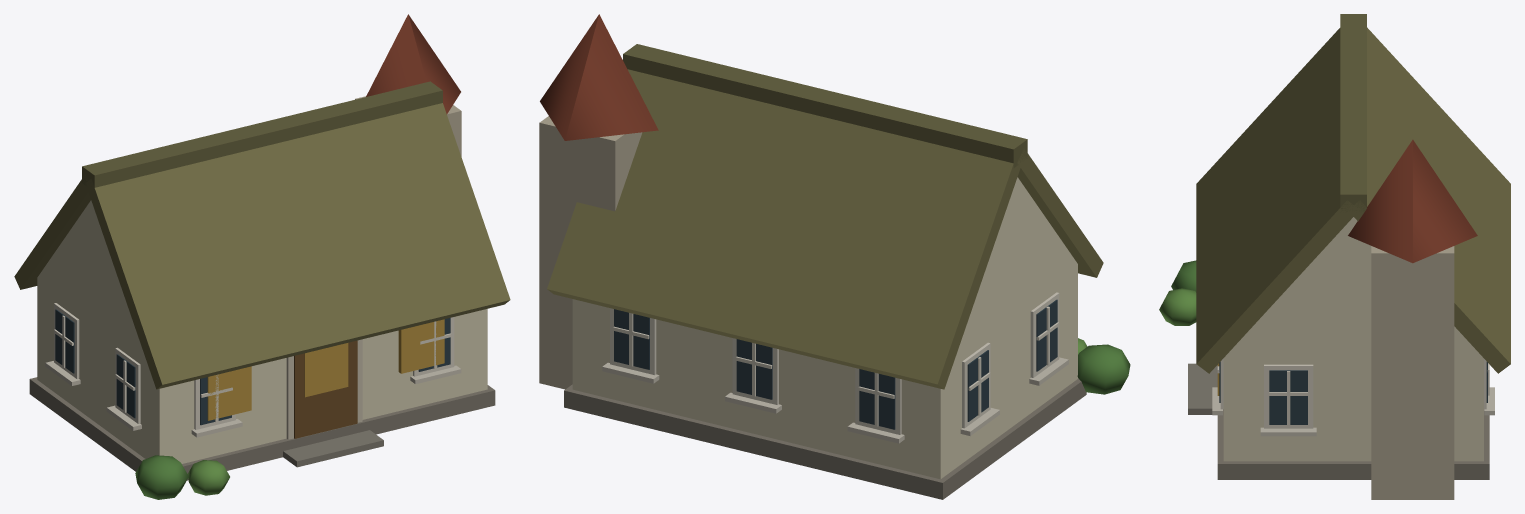
Rendered from procedural_scriptorium@3.glb.
3 views of the same model, side by side, from view 1: azimuth 30°, elevation 25°; view 2: azimuth 150°, elevation 25°; view 3: azimuth 270°, elevation 25° (orthographic). The views are drawn at different scales.
Visible parts, largest first — view 1: part_0; view 2: part_0; view 3: part_0.
Boxes of the visible parts, x1,y1,x2,y2 form: part_0: (14, 14, 510, 499); part_0: (539, 14, 1130, 499); part_0: (1159, 14, 1510, 499).
Size of the model in its own units: 8.8 by 6.45 by 5.95.
